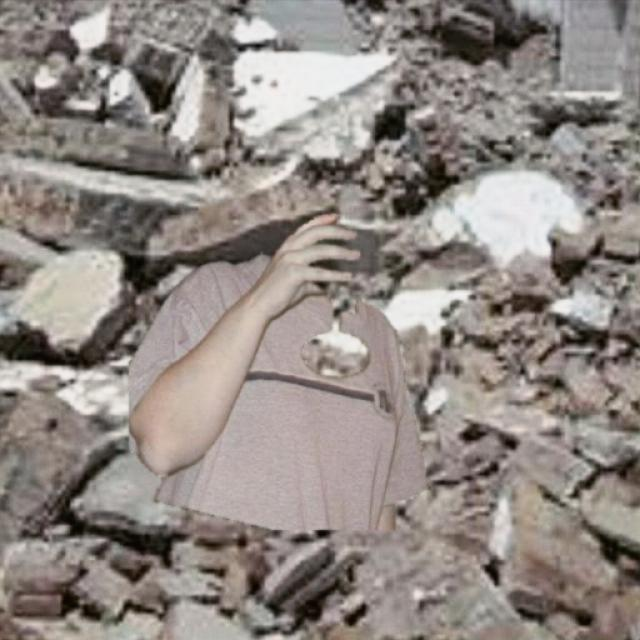Person in Rubble: (129, 212, 429, 528)
